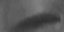LeftEyeFatigue: (9, 7, 64, 31)
